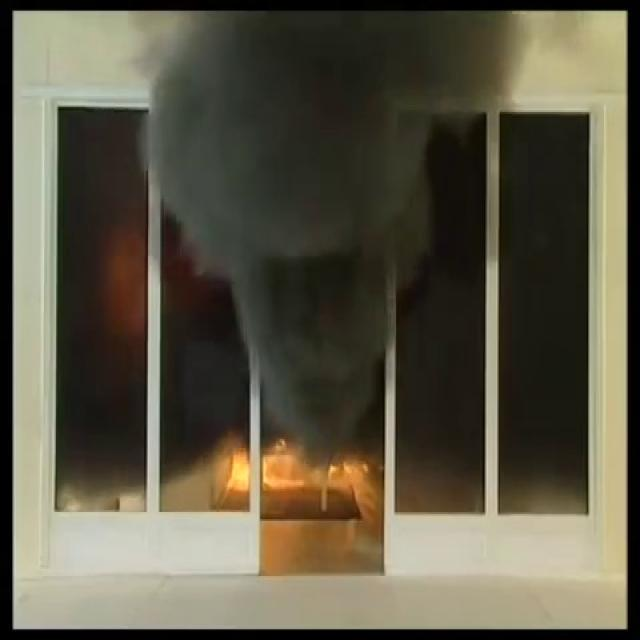Smoke: (144, 2, 562, 412)
